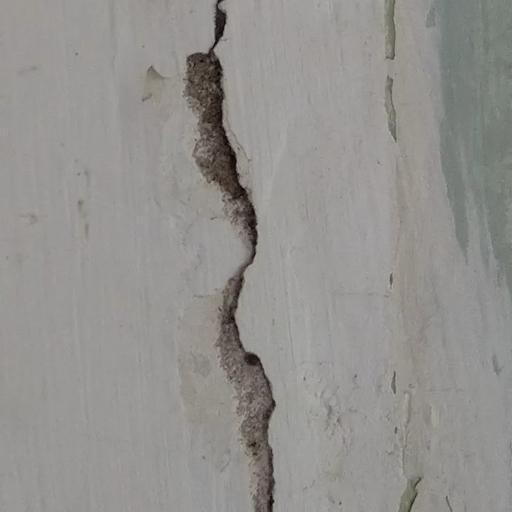major_crack: (169, 0, 297, 512)
